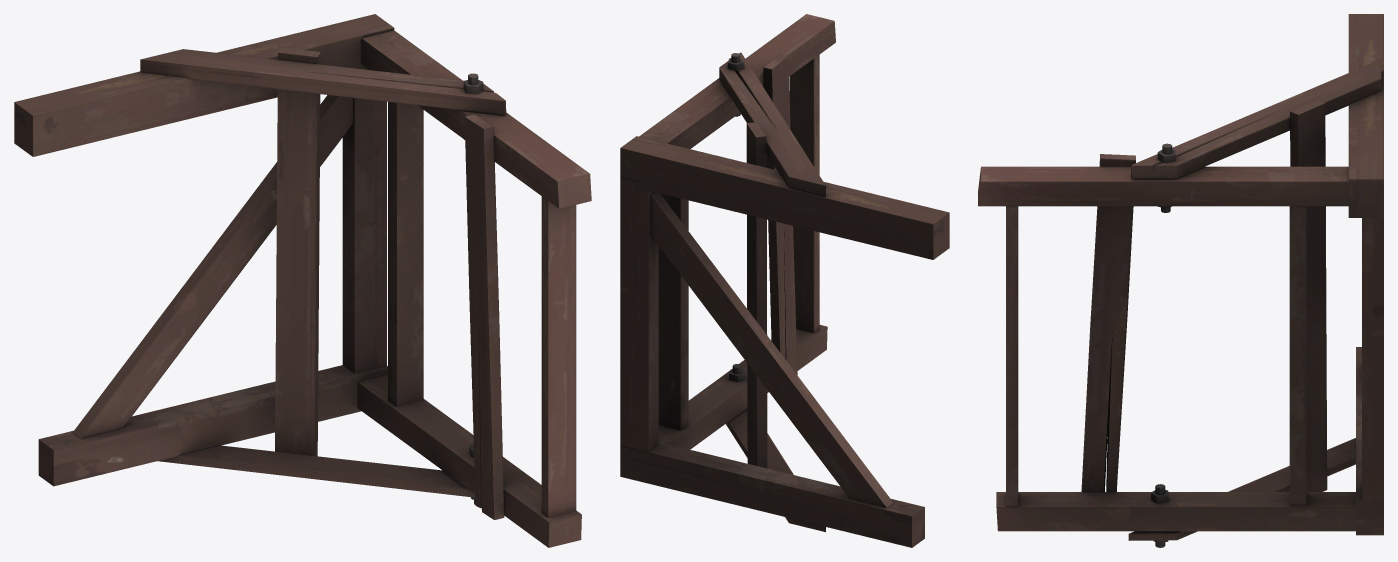
File: props_coalmines_wood_support_128.glb
The picture shows the model from 3 angles, left to right: view 1: azimuth 30°, elevation 25°; view 2: azimuth 150°, elevation 25°; view 3: azimuth 270°, elevation 25°; orthographic projection. The views are drawn at different scales.
Visible parts, largest first — view 1: models/props_coalmines/wood_support_128; view 2: models/props_coalmines/wood_support_128; view 3: models/props_coalmines/wood_support_128.
Boxes of the visible parts, x1=… form: models/props_coalmines/wood_support_128: x1=14, y1=14, x2=591, y2=547; models/props_coalmines/wood_support_128: x1=620, y1=14, x2=949, y2=547; models/props_coalmines/wood_support_128: x1=978, y1=14, x2=1383, y2=547.
Bounding box in the file's own units: 133 × 150 × 138.
1 material, 1 textured.
